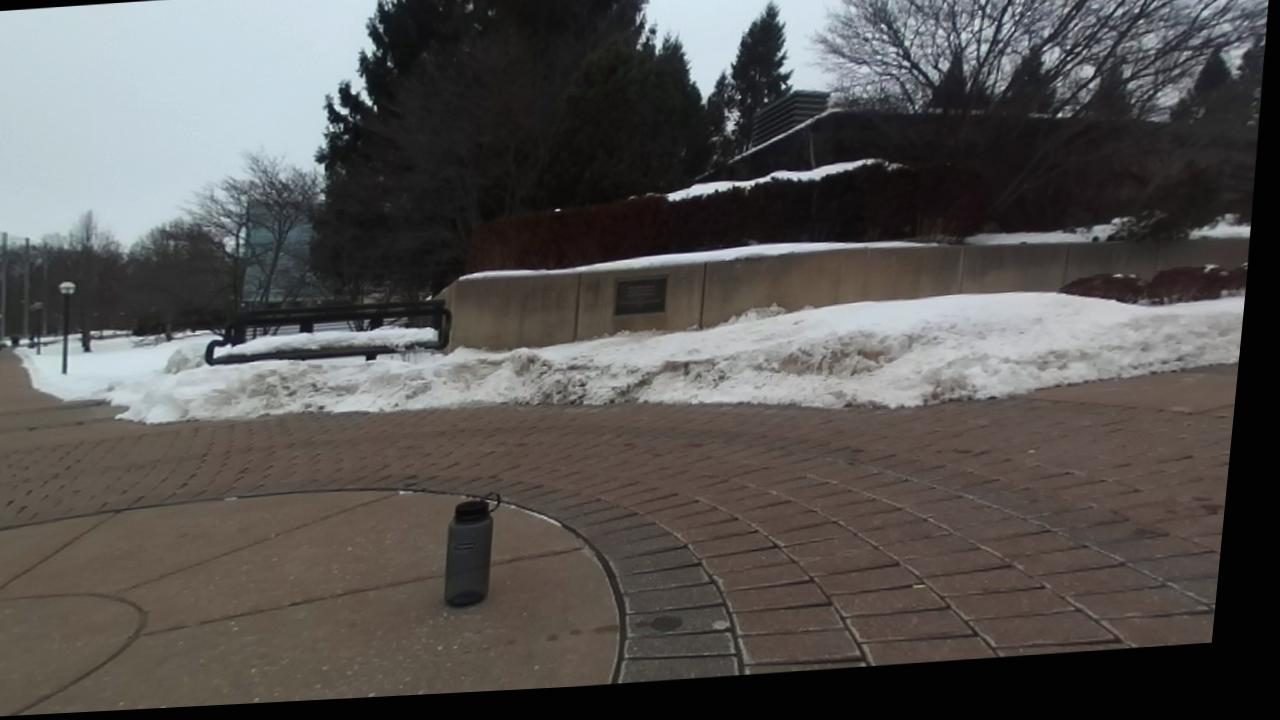bottle: (444, 494, 498, 606)
